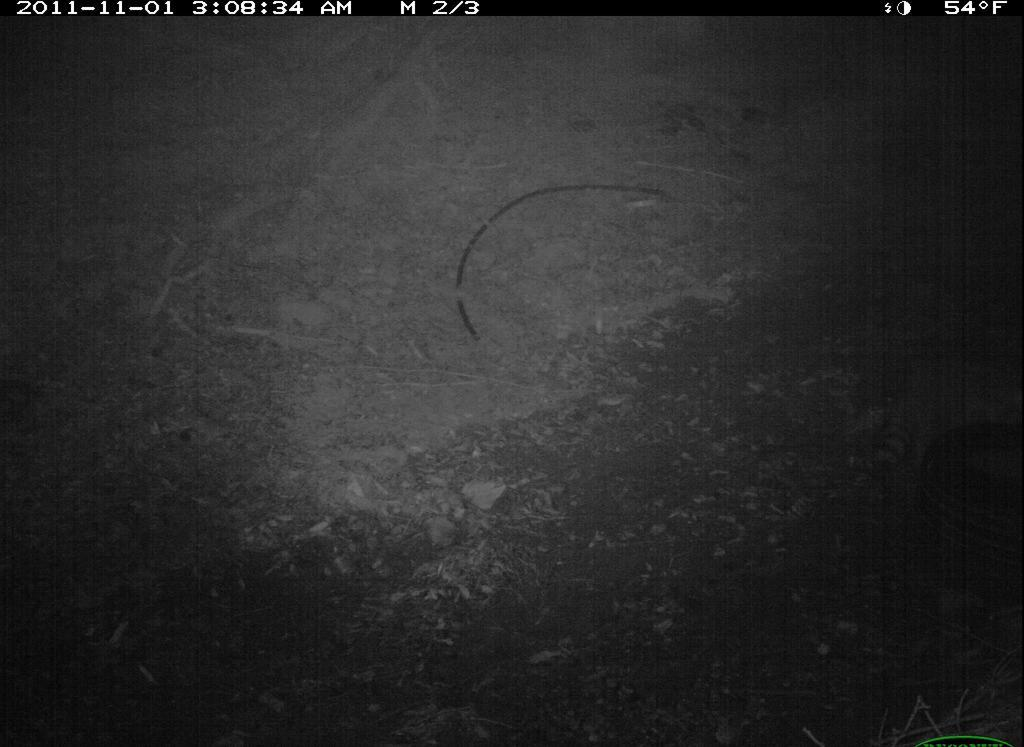raccoon: (850, 332, 1023, 496)
